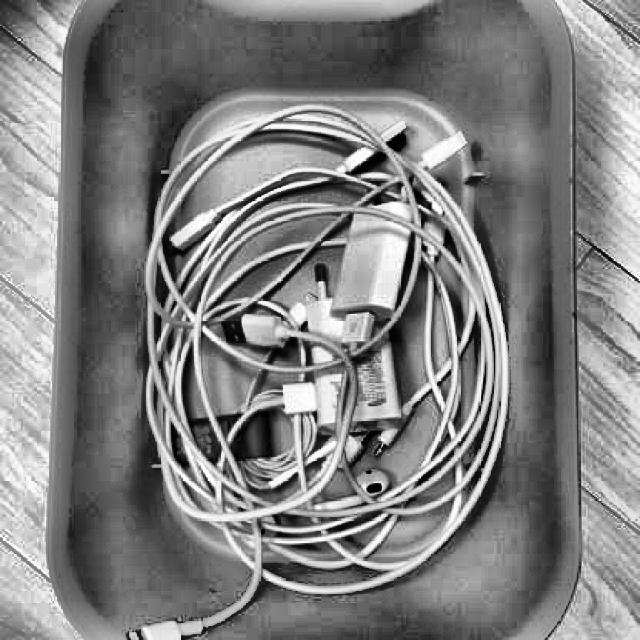Cable: (127, 100, 515, 640)
